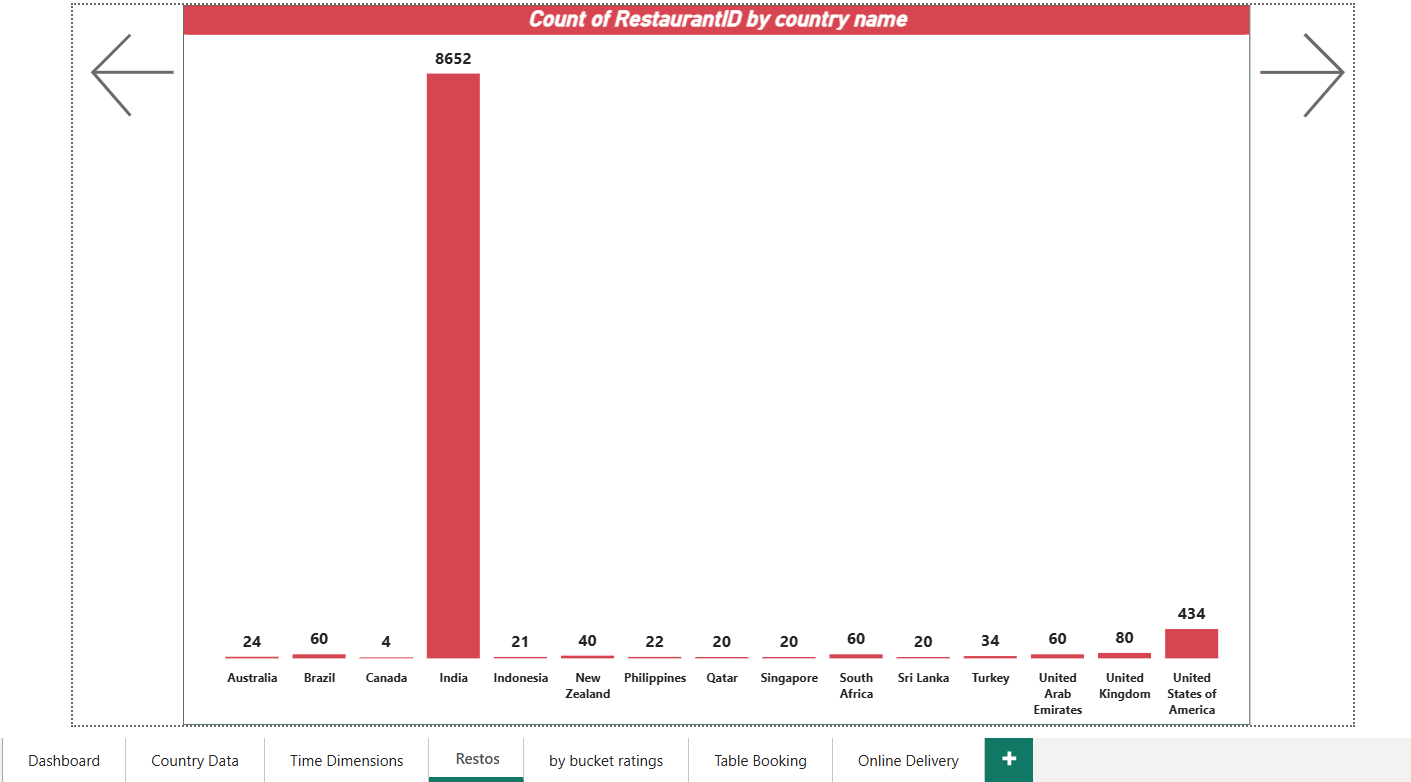

What the dashboard file says about the page in this screenshot:
{"tool":"powerbi","page":{"name":"Restos","canvas":[1280,720],"ordinal":3},"visuals":[{"type":"columnChart","fields":{"Category":["Sheet2.country name","cuisines copy.City"],"Y":["CountNonNull(cuisines copy.RestaurantID)"]},"box":[110,0,1067.1,719.8],"z":0},{"type":"actionButton","box":[1177.1,0,102.3,140.9],"z":1000},{"type":"actionButton","box":[9.6,0,100.3,140.9],"z":2000}]}

Visuals, with their boxes on the page's 1280x720 design canvas (x1, y1, x2, y2). These are canvas units, not pixel positions in the 1411x782 screenshot, which may show the page scaled, cropped or inside an application window:
columnChart - Sheet2.country name x cuisines copy.City: (110,0,1177,720)
actionButton: (1177,0,1279,141)
actionButton: (10,0,110,141)
